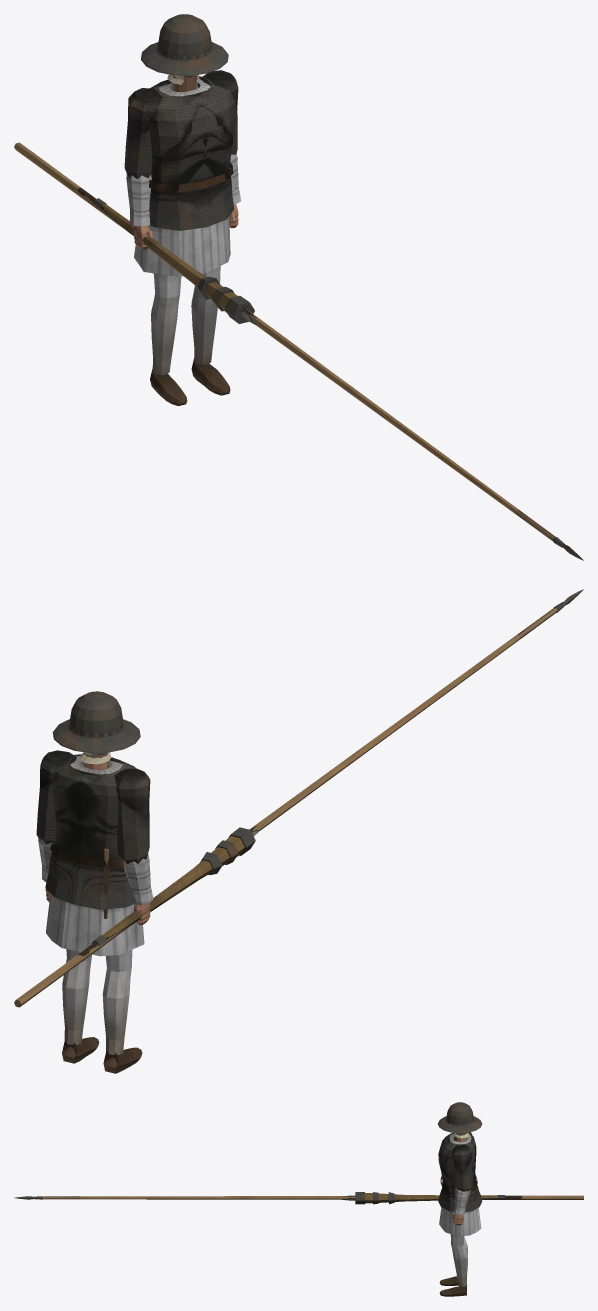
The model's file is militia.glb.
The picture shows the model from 3 angles, top to bottom: view 1: azimuth 30°, elevation 25°; view 2: azimuth 150°, elevation 25°; view 3: azimuth 270°, elevation 25°; orthographic projection. The views are drawn at different scales.
Visible parts, largest first — view 1: militia_LOD0; view 2: militia_LOD0; view 3: militia_LOD0.
Boxes of the visible parts, x1,y1,x2,y2 form: militia_LOD0: (14, 14, 583, 560); militia_LOD0: (14, 589, 583, 1073); militia_LOD0: (14, 1102, 583, 1296).
Size of what is drawn, in the model's own units: 0.5607 by 1.8 by 5.
1 material, 1 textured.
